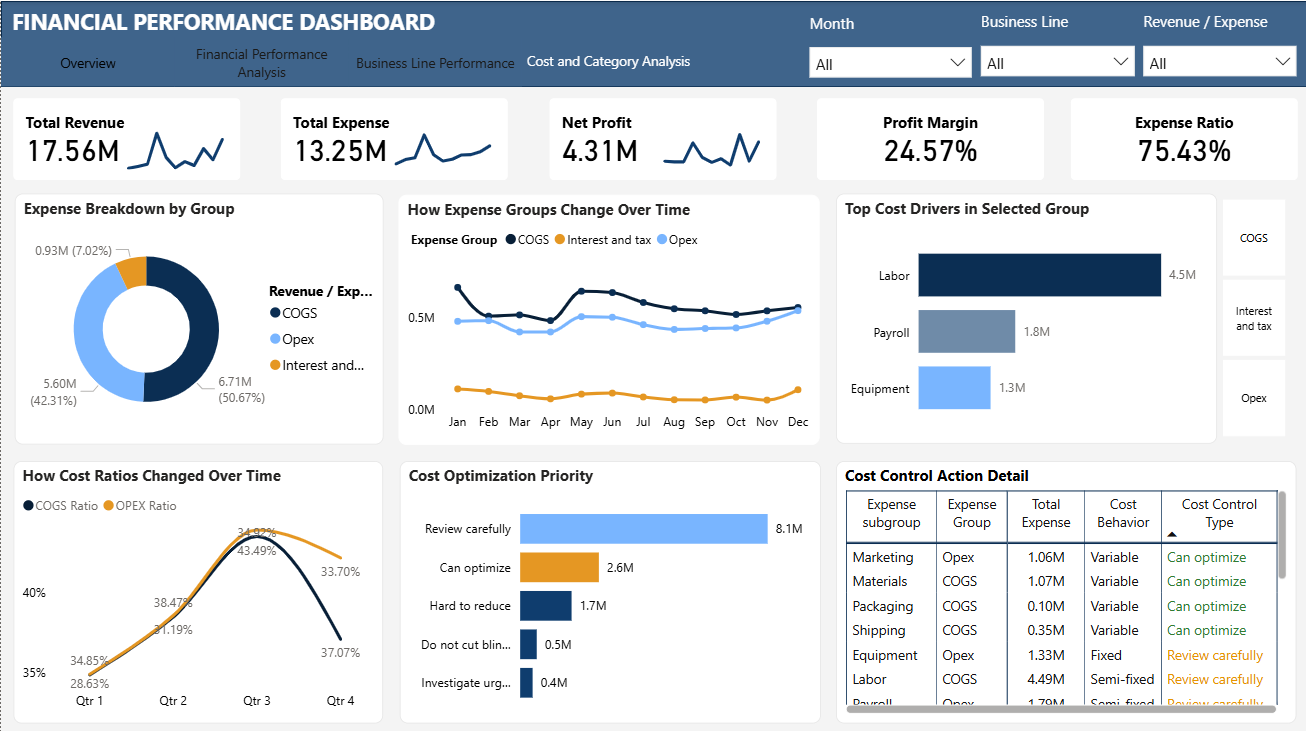

This screenshot's page, from the dashboard's own definition file:
{"tool":"powerbi","page":{"name":"Cost and Category Analysis","canvas":[1280,720],"ordinal":3},"visuals":[{"type":"shape","box":[0,0,1280.3,84.2],"z":0},{"type":"cardVisual","fields":{"Data":["Measure.Expense Ratio"]},"box":[1034.1,83.2,246.2,104.9],"z":0,"group":"g8"},{"type":"textbox","box":[0,0,491.6,51.4],"z":1000},{"type":"group","id":"g1","title":"Group 3","box":[0,83.2,259.7,104.9],"z":1000,"group":"g8"},{"type":"actionButton","title":"Overview","box":[0,35.5,170,47.7],"z":2000},{"type":"group","id":"g2","title":"Group 3","box":[262,83.2,260.1,105.2],"z":2000,"group":"g8"},{"type":"actionButton","box":[170,35.5,170,47.7],"z":3000},{"type":"slicer","fields":{"Values":["Dim_BusinessLine.Business Line"]},"box":[953.8,39.3,160,42.8],"z":3000,"group":"g6"},{"type":"slicer","fields":{"Values":["Dim_AccountType.Revenue / Expense Group"]},"box":[1113.2,39.9,159.4,42.5],"z":3000,"group":"g7"},{"type":"slicer","fields":{"Values":["Dim_Date.Month"]},"box":[786.8,40.6,167.8,42.8],"z":3000,"group":"g5"},{"type":"group","id":"g3","title":"Group 3","box":[524.3,83.2,259.3,104.9],"z":3000,"group":"g8"},{"type":"textbox","box":[953.8,5.1,153.6,35.5],"z":4000,"group":"g6"},{"type":"textbox","box":[1113.6,5.1,153.4,35.7],"z":4000,"group":"g7"},{"type":"textbox","box":[786.8,6.4,161.1,35.5],"z":4000,"group":"g5"},{"type":"actionButton","box":[339.9,35.5,170,47.7],"z":4000},{"type":"group","id":"g4","title":"Group 3","box":[785.9,83.2,246.2,104.9],"z":4000,"group":"g8"},{"type":"actionButton","box":[509.9,33.7,168.8,47.7],"z":5000},{"type":"cardVisual","fields":{"Data":["Measure.Total Revenue"]},"box":[0,83.2,246.6,104.9],"z":5000,"group":"g1"},{"type":"cardVisual","fields":{"Data":["Measure.Total Expense"]},"box":[262,83.2,246.6,104.9],"z":5000,"group":"g2"},{"type":"cardVisual","fields":{"Data":["Measure.Net Profit"]},"box":[524.3,83.2,246.6,104.9],"z":5000,"group":"g3"},{"type":"cardVisual","fields":{"Data":["Measure.Profit Margin"]},"box":[785.9,83.2,246.2,104.9],"z":5000,"group":"g4"},{"type":"group","id":"g5","title":"Group 2","box":[786.8,6.4,167,76.5],"z":6000},{"type":"group","id":"g6","title":"Group 2","box":[953.8,5.1,159.4,76.5],"z":7000},{"type":"group","id":"g7","title":"Group 2","box":[1113.2,5.1,159.4,77.8],"z":8000},{"type":"group","id":"g8","title":"Group 1","box":[0,83.2,1280.3,105.2],"z":9000},{"type":"donutChart","title":"Expense Breakdown by Group","fields":{"Category":["Dim_AccountType.Revenue / Expense Group"],"Y":["Measure.Total Expense"]},"box":[13.5,188.3,360.7,245.8],"z":10000},{"type":"lineChart","title":"How Expense Groups Change Over Time","fields":{"Y":["Measure.Total Expense"],"Series":["Dim_AccountType.Revenue / Expense Group"],"Category":["Dim_Date.Year Hierarchy.Year","Dim_Date.Year Hierarchy.Quarter","Dim_Date.Year Hierarchy.Month Short"]},"box":[388.9,189.5,412.1,244.6],"z":11000},{"type":"clusteredBarChart","title":"Top Cost Drivers in Selected Group","fields":{"Y":["Measure.Total Expense"],"Category":["Dim_AccountType.Expense subgroup"]},"box":[816.9,188.3,373,244.6],"z":12000},{"type":"slicer","fields":{"Values":["Dim_AccountType.Revenue / Expense Group"]},"box":[1169,187.1,111.3,245.8],"z":13000},{"type":"lineChart","title":"How Cost Ratios Changed Over Time","fields":{"Y":["Measure.COGS Ratio"],"Y2":["Measure.OPEX Ratio"],"Category":["Dim_Date.Date.Variation.Date Hierarchy.Quarter","Dim_Date.Date.Variation.Date Hierarchy.Month"]},"box":[12.2,450,362,256.8],"z":14000},{"type":"clusteredBarChart","title":"Cost Optimization Priority","fields":{"Category":["Dim_CostClassification.Cost Control Type"],"Y":["Measure.Total Expense"]},"box":[390.1,450,412.1,256.8],"z":15000},{"type":"lineChart","fields":{"Y":["Measure.Monthly Revenue Growth %"],"Category":["Dim_Date.Month"]},"box":[92.3,109.5,167.4,61.3],"z":16000,"group":"g1"},{"type":"lineChart","fields":{"Category":["Dim_Date.Month"],"Y":["Measure.Monthly Expense Growth %"]},"box":[354.3,109.5,167.4,61.3],"z":16000,"group":"g2"},{"type":"lineChart","fields":{"Category":["Dim_Date.Month"],"Y":["Measure.Monthly Net Profit Growth %"]},"box":[616.6,109.5,167.4,61.3],"z":16000,"group":"g3"},{"type":"tableEx","title":"Cost Control Action Detail","fields":{"Values":["Dim_CostClassification.Expense subgroup","Dim_AccountType.Revenue / Expense Group","Measure.Total Expense","Dim_CostClassification.Cost Behavior","Dim_Cost Control Type.Cost Control Type"]},"box":[816.9,450,450,256.8],"z":16000}]}

Visuals, with their boxes in screenshot pixels (x1, y1, x2, y2), scaled from the page's 1280x720 canvas onto the 1306x731 screenshot:
shape: x1=0 y1=0 x2=1305 y2=85
cardVisual - Measure.Expense Ratio: x1=1055 y1=84 x2=1305 y2=191
textbox: x1=0 y1=0 x2=502 y2=52
"Group 3" group: x1=0 y1=84 x2=265 y2=191
"Overview" actionButton: x1=0 y1=36 x2=173 y2=84
"Group 3" group: x1=267 y1=84 x2=533 y2=191
actionButton: x1=173 y1=36 x2=347 y2=84
slicer - Dim_BusinessLine.Business Line: x1=973 y1=40 x2=1136 y2=83
slicer - Dim_AccountType.Revenue / Expense Group: x1=1136 y1=41 x2=1298 y2=84
slicer - Dim_Date.Month: x1=803 y1=41 x2=974 y2=85
"Group 3" group: x1=535 y1=84 x2=800 y2=191
textbox: x1=973 y1=5 x2=1130 y2=41
textbox: x1=1136 y1=5 x2=1293 y2=41
textbox: x1=803 y1=6 x2=967 y2=43
actionButton: x1=347 y1=36 x2=520 y2=84
"Group 3" group: x1=802 y1=84 x2=1053 y2=191
actionButton: x1=520 y1=34 x2=692 y2=83
cardVisual - Measure.Total Revenue: x1=0 y1=84 x2=252 y2=191
cardVisual - Measure.Total Expense: x1=267 y1=84 x2=519 y2=191
cardVisual - Measure.Net Profit: x1=535 y1=84 x2=787 y2=191
cardVisual - Measure.Profit Margin: x1=802 y1=84 x2=1053 y2=191
"Group 2" group: x1=803 y1=6 x2=973 y2=84
"Group 2" group: x1=973 y1=5 x2=1136 y2=83
"Group 2" group: x1=1136 y1=5 x2=1298 y2=84
"Group 1" group: x1=0 y1=84 x2=1305 y2=191
"Expense Breakdown by Group" donutChart: x1=14 y1=191 x2=382 y2=441
"How Expense Groups Change Over Time" lineChart: x1=397 y1=192 x2=817 y2=441
"Top Cost Drivers in Selected Group" clusteredBarChart: x1=833 y1=191 x2=1214 y2=440
slicer - Dim_AccountType.Revenue / Expense Group: x1=1193 y1=190 x2=1305 y2=440
"How Cost Ratios Changed Over Time" lineChart: x1=12 y1=457 x2=382 y2=718
"Cost Optimization Priority" clusteredBarChart: x1=398 y1=457 x2=818 y2=718
lineChart - Measure.Monthly Revenue Growth % x Dim_Date.Month: x1=94 y1=111 x2=265 y2=173
lineChart - Dim_Date.Month x Measure.Monthly Expense Growth %: x1=361 y1=111 x2=532 y2=173
lineChart - Dim_Date.Month x Measure.Monthly Net Profit Growth %: x1=629 y1=111 x2=800 y2=173
"Cost Control Action Detail" tableEx: x1=833 y1=457 x2=1293 y2=718
